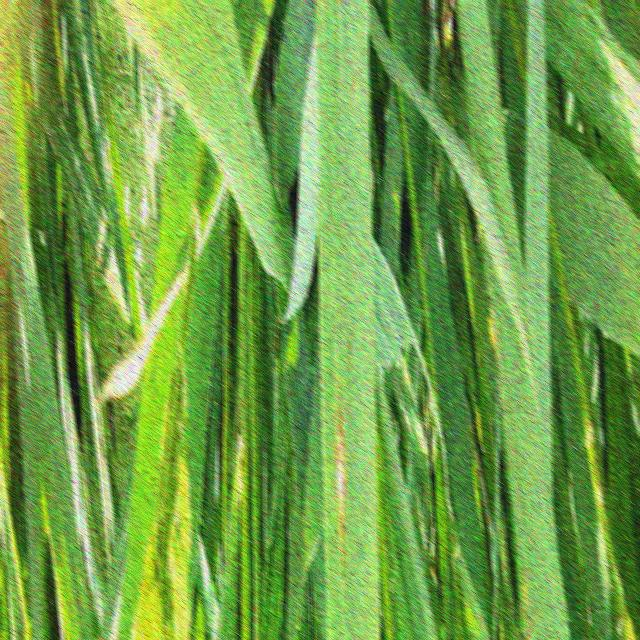LEAF BLAST: (334, 381, 346, 571)
